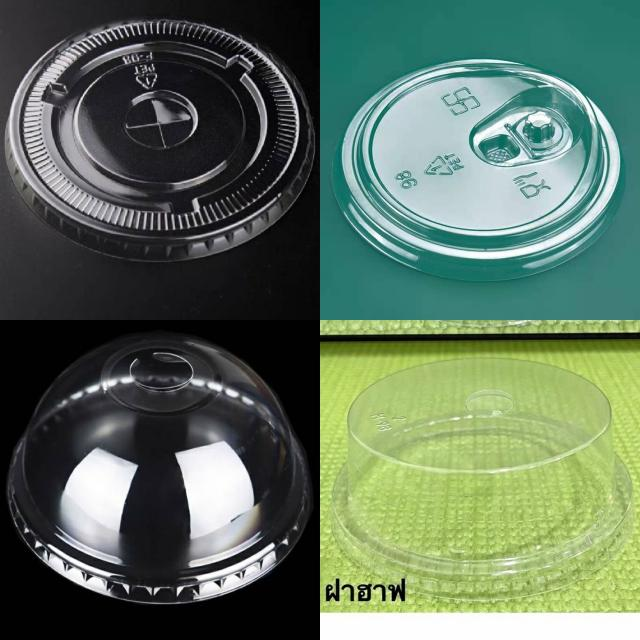Single-Use-Plastic: (8, 332, 311, 604), (5, 19, 314, 261), (332, 358, 634, 599), (332, 59, 624, 280)
